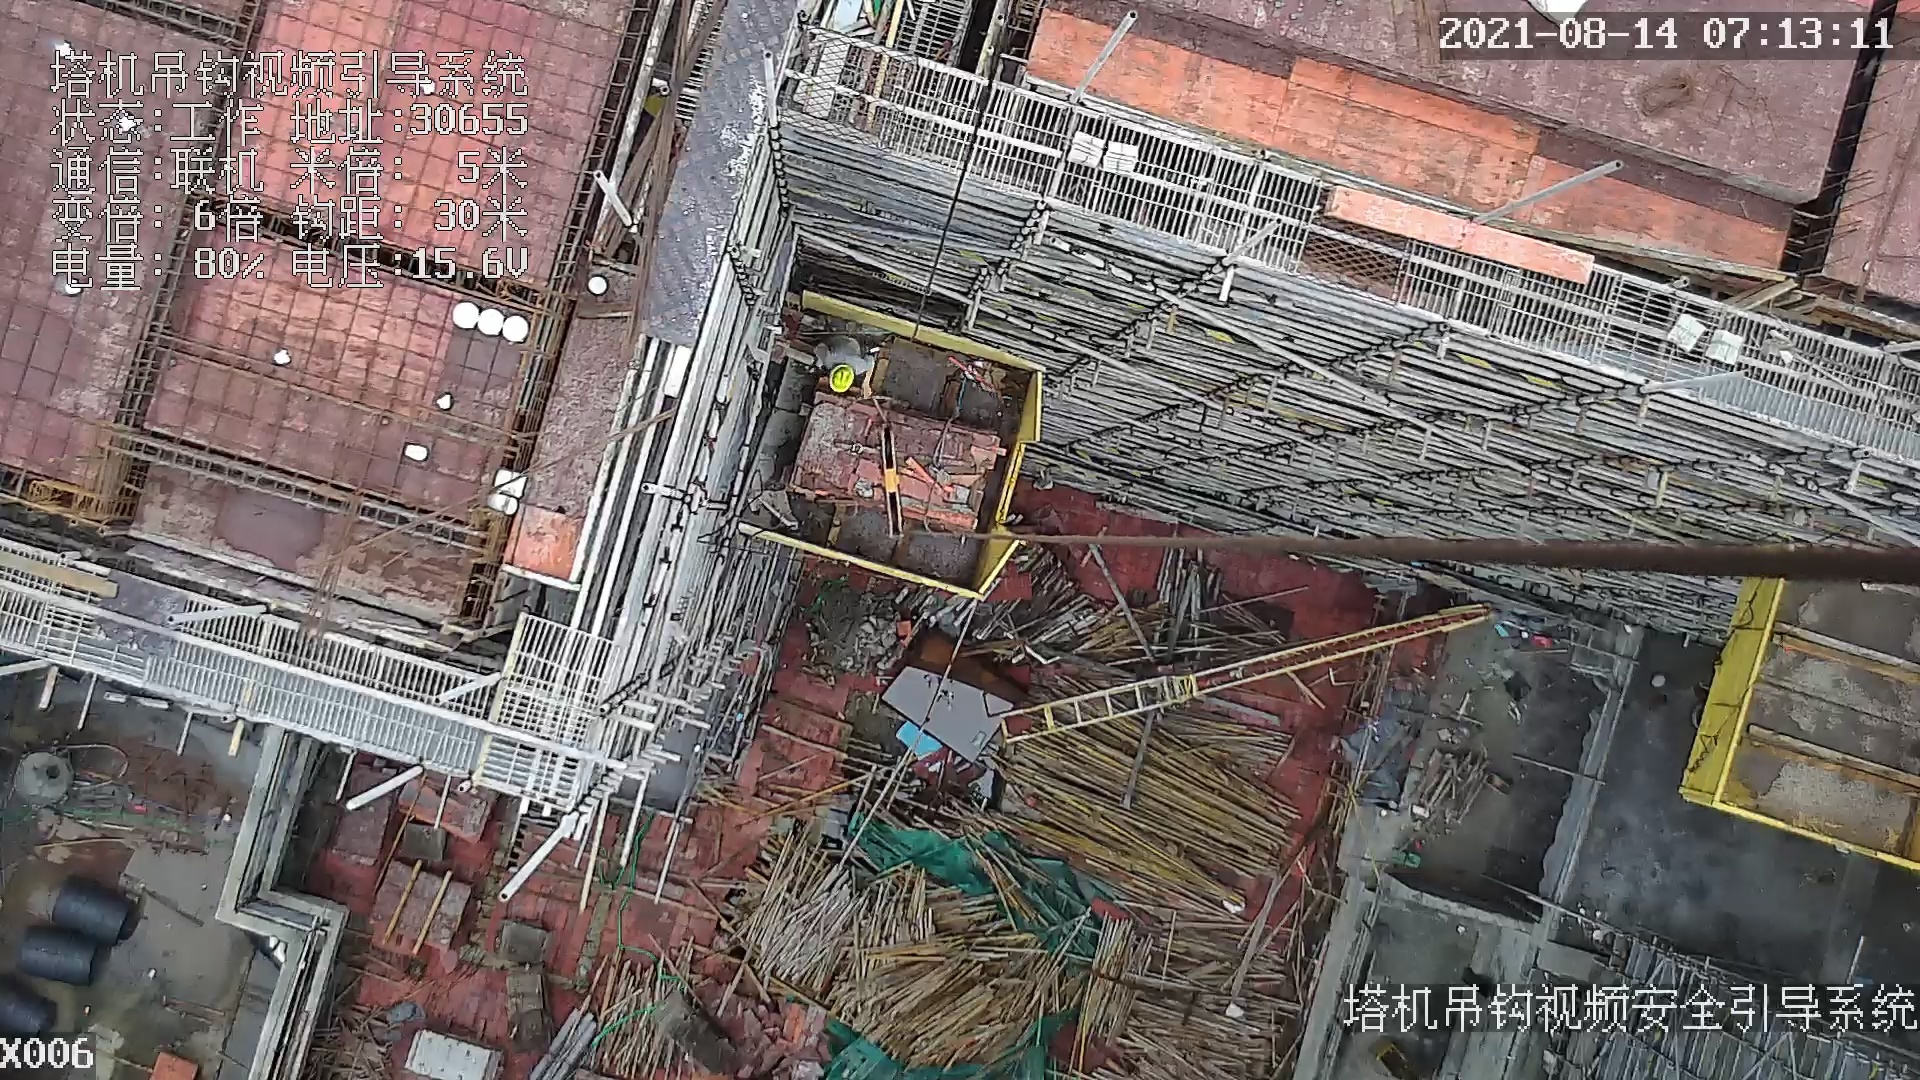helmet: (808, 346, 862, 404)
hook: (870, 424, 909, 541)
person: (812, 331, 882, 405)
